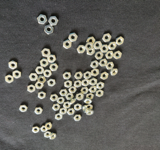nut: (37, 14, 47, 25), (49, 16, 59, 26), (47, 54, 57, 63), (103, 33, 112, 43), (45, 25, 54, 35), (5, 75, 14, 84), (50, 63, 59, 72), (42, 48, 51, 57), (95, 51, 104, 60), (114, 51, 123, 60), (116, 37, 125, 46), (87, 47, 96, 56), (94, 41, 103, 50), (77, 45, 86, 54), (87, 37, 96, 46), (63, 40, 72, 49), (69, 33, 78, 42), (35, 67, 45, 75), (100, 45, 110, 53), (19, 105, 28, 113), (13, 70, 21, 79), (9, 61, 17, 70), (38, 91, 46, 100), (50, 94, 59, 102), (38, 76, 47, 84), (44, 69, 52, 78), (40, 59, 49, 67), (64, 80, 73, 88), (63, 72, 72, 80), (97, 81, 105, 90), (100, 72, 109, 80), (110, 68, 119, 76), (90, 61, 99, 69), (106, 62, 115, 70), (85, 43, 94, 51), (55, 113, 63, 121), (67, 108, 75, 116), (28, 85, 36, 93), (57, 97, 65, 105), (76, 93, 84, 101), (48, 79, 56, 87), (60, 89, 68, 97), (96, 90, 104, 98), (81, 87, 89, 95), (74, 80, 82, 88), (82, 79, 90, 87), (90, 78, 98, 86), (75, 72, 83, 80), (84, 71, 92, 79), (92, 69, 100, 77), (100, 59, 108, 67), (106, 51, 114, 59), (109, 42, 117, 50), (84, 98, 93, 105), (35, 82, 44, 89), (29, 74, 38, 81), (50, 133, 57, 141), (44, 132, 52, 139), (32, 127, 40, 134), (45, 123, 52, 131), (35, 108, 43, 115), (60, 108, 68, 115), (74, 115, 82, 122), (53, 104, 61, 111), (63, 102, 71, 109), (75, 103, 82, 111), (86, 93, 94, 100), (69, 87, 77, 94), (90, 86, 97, 94), (41, 126, 48, 133), (70, 98, 77, 105), (87, 109, 94, 116), (66, 94, 74, 100), (86, 104, 93, 110), (83, 106, 88, 114)
